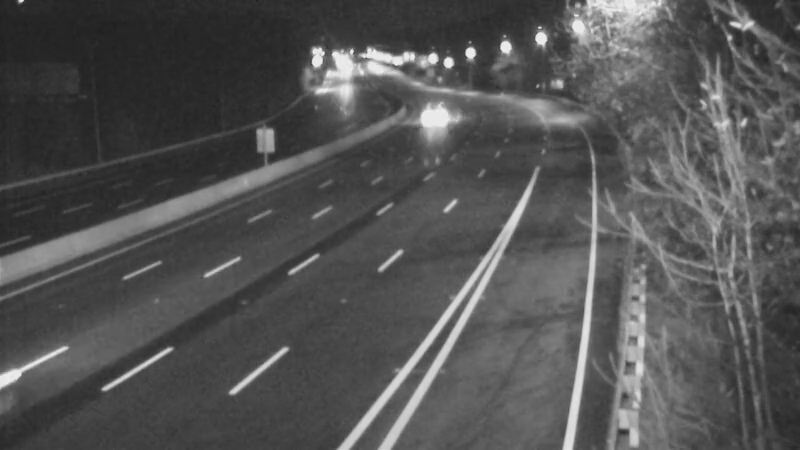vehicle: (403, 91, 453, 141)
